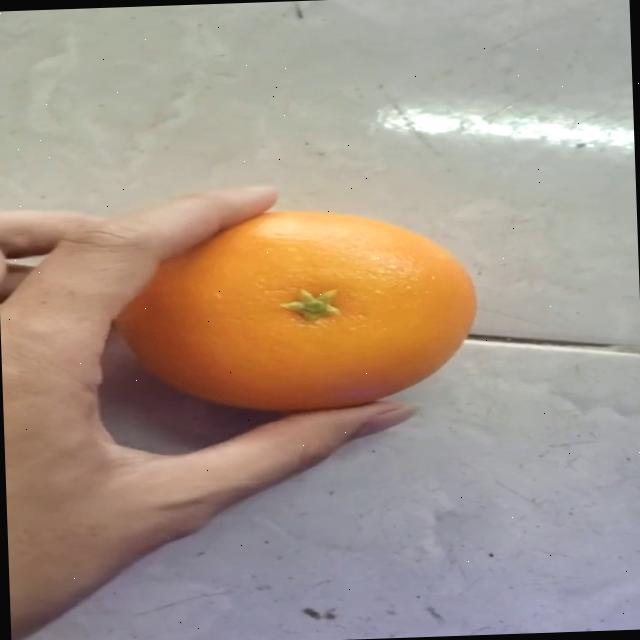orange: (81, 184, 520, 440)
